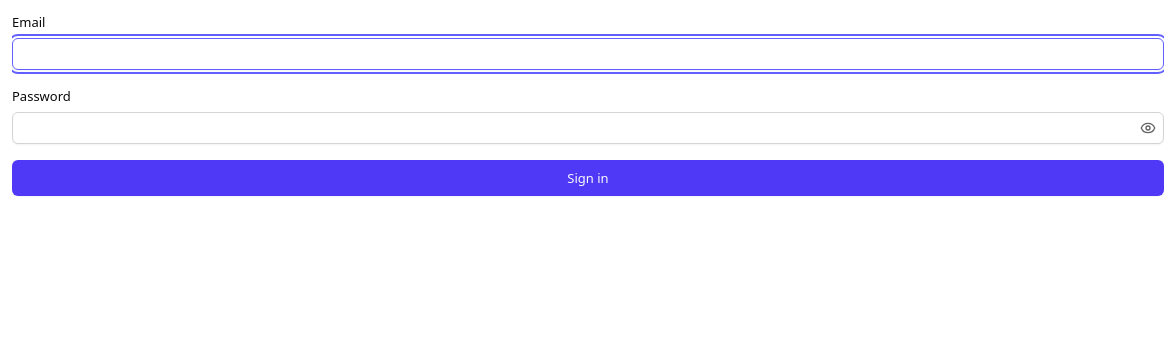
keeps the form and shows a sanitized failure when sign-in is rejected
In the field labelled "Email": (588,54) [12,38,1164,70], type "editor@lace.test"
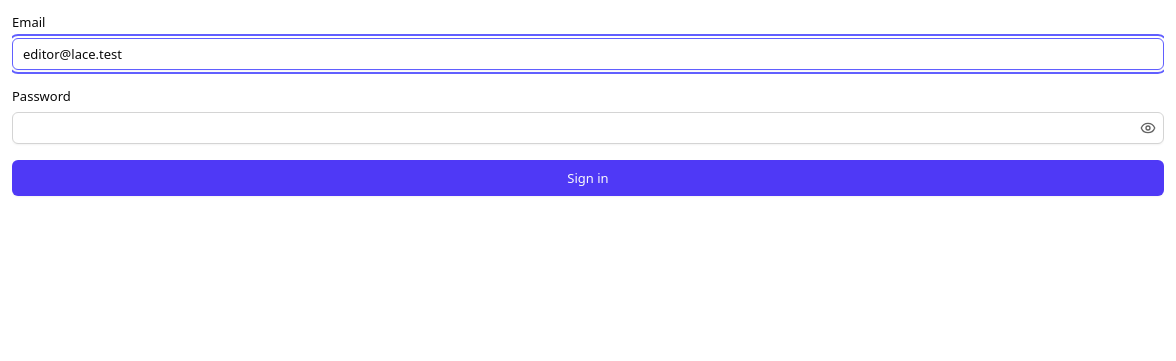
In the password field labelled "Password": (588,128) [12,112,1164,144], type "wrong password"
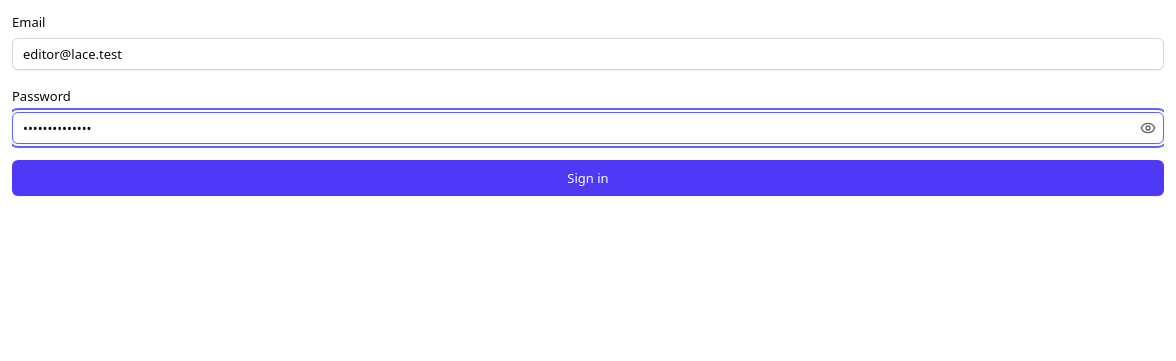
Click the button "Sign in": (588,178) [12,160,1164,196]
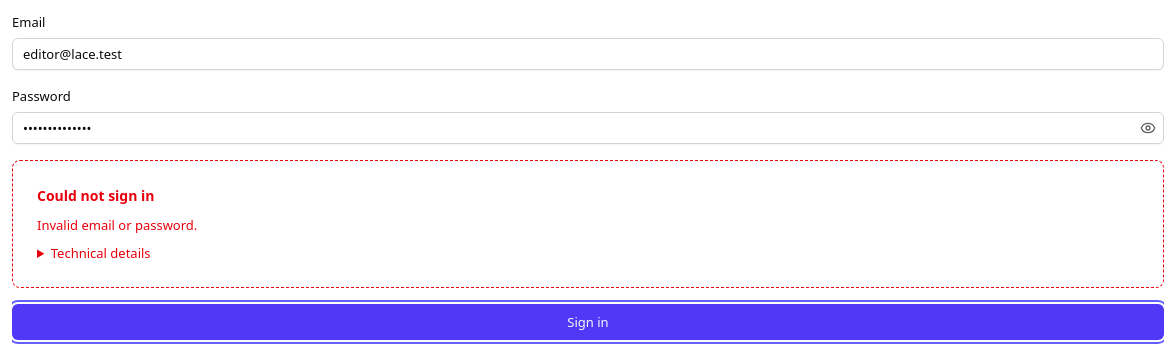
Expected: the message shows "Invalid email or password.", [37,216,197,234]
Expected: the message shows "Could not sign in", [37,186,154,205]
